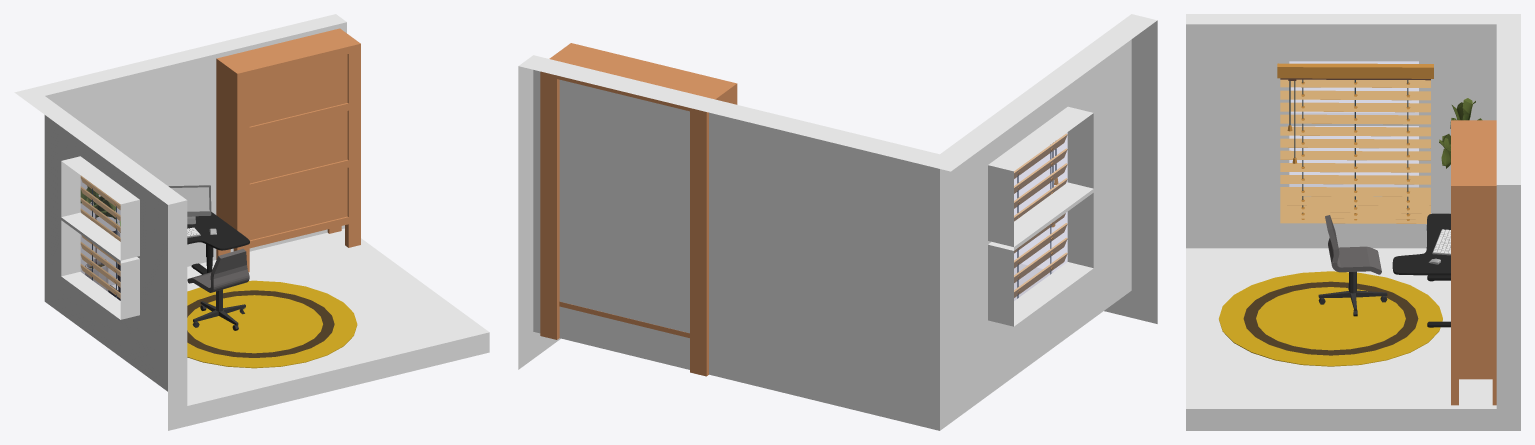
The model's file is office.glb.
The picture shows the model from 3 angles, left to right: view 1: azimuth 30°, elevation 25°; view 2: azimuth 150°, elevation 25°; view 3: azimuth 270°, elevation 25°; orthographic projection. The views are drawn at different scales.
Visible parts, largest first — view 1: Plane, bookcaseClosedDoors.002, rugRound, Chair, FiddleleafFigPottedPlant_mesh; view 2: Plane, bookcaseClosedDoors.002; view 3: Plane, rugRound, bookcaseClosedDoors.002, Chair, group427675855, group830606209, group491062930, group928384235, group765891613, group1785529362, group205479027, group1774544435 (+8 smaller).
Boxes of the visible parts, left/top/right/bottom form: Plane: left=14, top=14, right=489, bottom=430; bookcaseClosedDoors.002: left=216, top=28, right=360, bottom=272; rugRound: left=187, top=280, right=357, bottom=368; Chair: left=108, top=185, right=249, bottom=330; FiddleleafFigPottedPlant_mesh: left=80, top=186, right=115, bottom=291; Plane: left=518, top=14, right=1157, bottom=430; bookcaseClosedDoors.002: left=540, top=43, right=737, bottom=376; Plane: left=1186, top=14, right=1520, bottom=430; rugRound: left=1219, top=271, right=1442, bottom=366; bookcaseClosedDoors.002: left=1451, top=120, right=1496, bottom=405; Chair: left=1318, top=213, right=1450, bottom=327; group427675855: left=1277, top=63, right=1433, bottom=78; group830606209: left=1280, top=196, right=1430, bottom=205; group491062930: left=1280, top=187, right=1430, bottom=196; group928384235: left=1280, top=163, right=1430, bottom=172; group765891613: left=1280, top=175, right=1430, bottom=184; group1785529362: left=1280, top=138, right=1430, bottom=148; group205479027: left=1280, top=114, right=1430, bottom=124; group1774544435: left=1280, top=90, right=1430, bottom=100.
Bounding box in the file's own units: 5.72 × 3.84 × 4.74.
29 materials, 4 textured.
